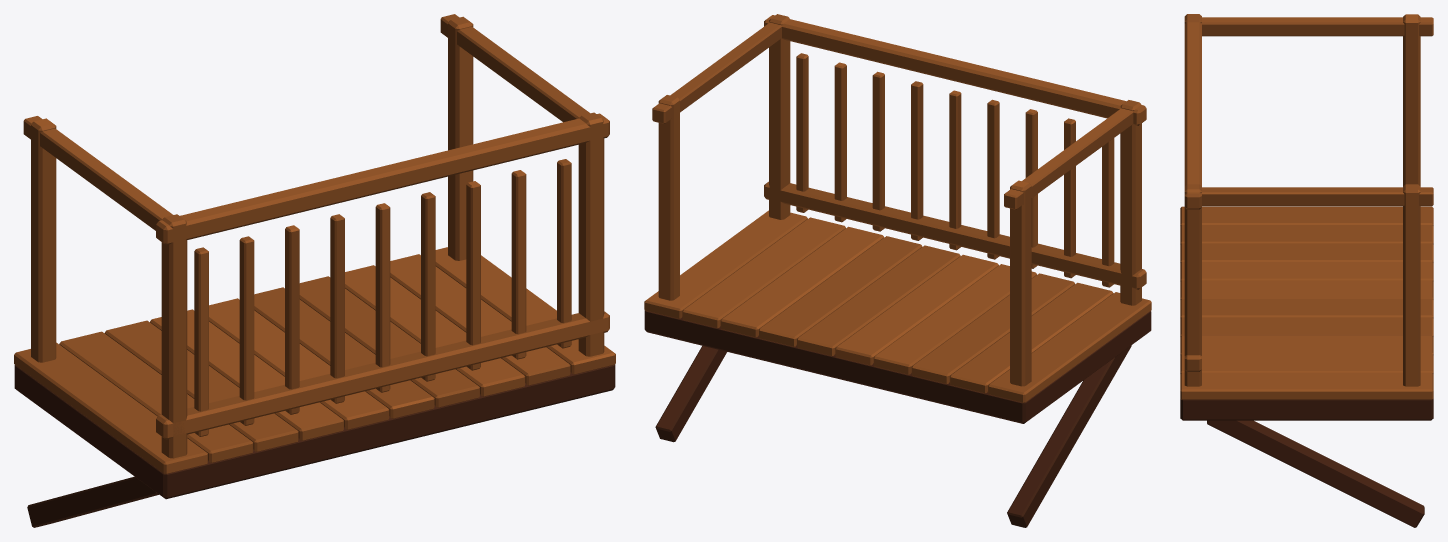
File: EH_Balcony_2m.fbx
3 views of the same model, side by side, from view 1: azimuth 30°, elevation 25°; view 2: azimuth 150°, elevation 25°; view 3: azimuth 270°, elevation 25° (orthographic). The views are drawn at different scales.
Visible parts, largest first — view 1: EH_Balcony_2m; view 2: EH_Balcony_2m; view 3: EH_Balcony_2m.
Boxes of the visible parts, x1,y1,x2,y2 form: EH_Balcony_2m: (14, 14, 615, 527); EH_Balcony_2m: (644, 14, 1151, 527); EH_Balcony_2m: (1180, 14, 1433, 527).
Size of the model in its own units: 2 by 1.71 by 1.16.
